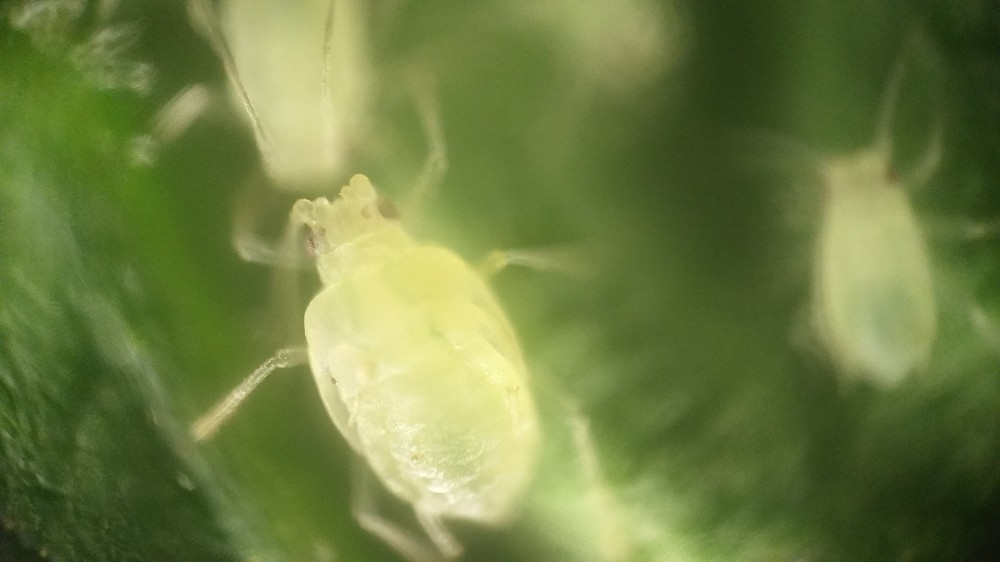Pulgon: (194, 117, 641, 562), (721, 77, 995, 425)
